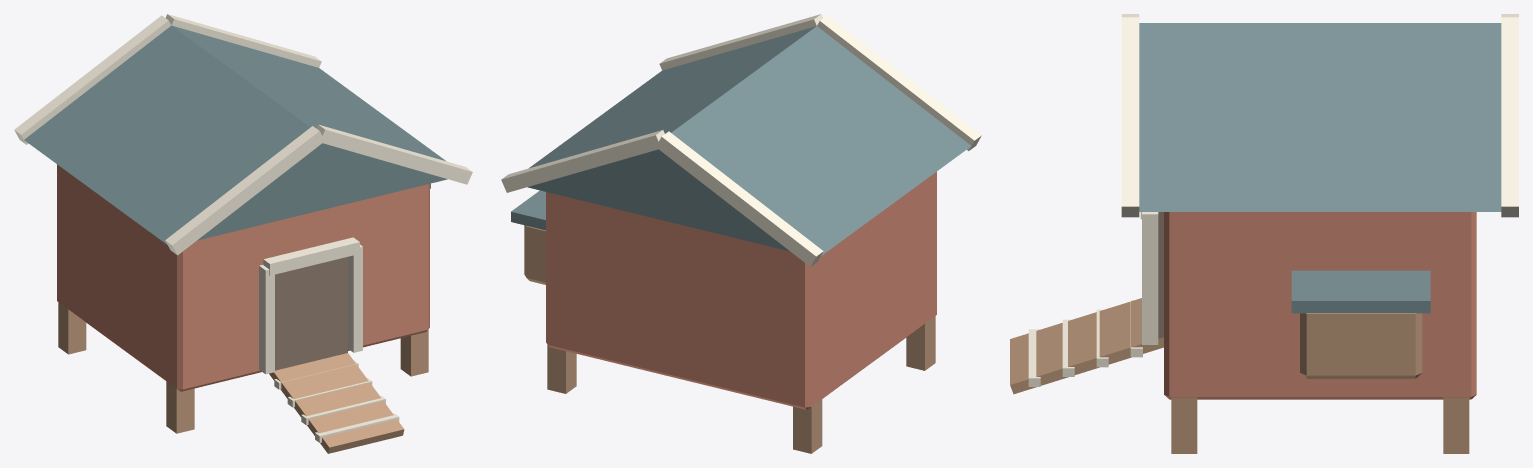
File: coop.glb
The picture shows the model from 3 angles, left to right: view 1: azimuth 30°, elevation 25°; view 2: azimuth 150°, elevation 25°; view 3: azimuth 270°, elevation 25°; orthographic projection. The views are drawn at different scales.
Visible parts, largest first — view 1: coop; view 2: coop; view 3: coop.
Part boxes in pixels (x1,y1,x2,y2): coop: (14, 14, 472, 453); coop: (501, 14, 981, 453); coop: (1010, 14, 1518, 453).
Bounding box in the file's own units: 3.48 × 2.93 × 3.74.
